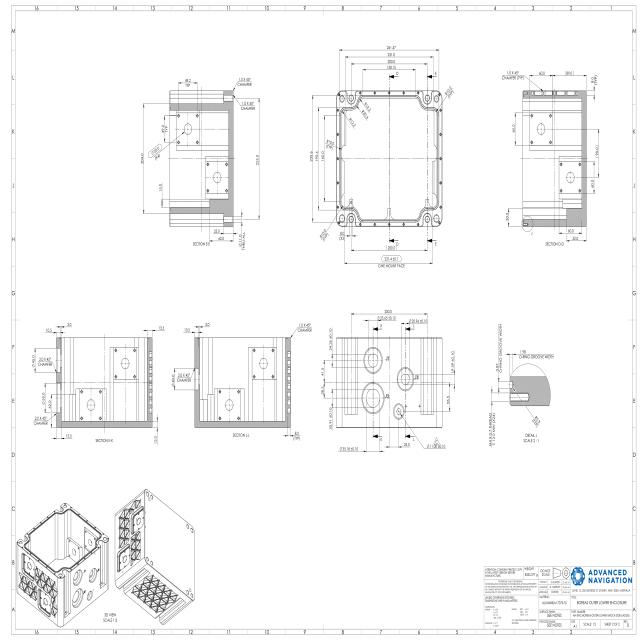dimension: (339, 45, 439, 93), (311, 94, 340, 223), (344, 52, 433, 92), (140, 103, 170, 214), (350, 58, 428, 94), (240, 98, 260, 220), (350, 308, 428, 338), (316, 106, 337, 210), (350, 224, 428, 252), (344, 245, 433, 269), (399, 412, 446, 449), (321, 115, 340, 203), (362, 64, 416, 94), (492, 324, 514, 396), (506, 387, 541, 428), (506, 349, 554, 377), (148, 131, 185, 161), (363, 315, 397, 347), (500, 70, 542, 92), (552, 69, 587, 93), (318, 209, 341, 243), (586, 128, 600, 178), (179, 78, 198, 114), (511, 112, 530, 147), (232, 208, 246, 252), (529, 70, 553, 94), (286, 322, 313, 342), (401, 318, 426, 339), (558, 214, 583, 235), (488, 392, 497, 448), (160, 116, 177, 142), (322, 359, 337, 388), (142, 326, 166, 344), (233, 95, 256, 112), (586, 74, 599, 103), (506, 208, 523, 228), (566, 226, 586, 243), (338, 446, 385, 453), (328, 327, 336, 368), (438, 86, 455, 105), (232, 77, 253, 92), (54, 321, 72, 338), (193, 321, 211, 338), (339, 223, 356, 241), (36, 432, 74, 440), (321, 379, 336, 399), (44, 327, 66, 340), (159, 182, 170, 208), (34, 354, 48, 374), (42, 382, 48, 428), (588, 161, 596, 195), (328, 388, 334, 431), (446, 374, 452, 414), (282, 430, 301, 442), (451, 348, 456, 392), (212, 225, 234, 235), (324, 138, 342, 150), (358, 101, 372, 116), (350, 102, 361, 121), (182, 328, 200, 339), (344, 114, 356, 129), (209, 235, 234, 242), (177, 372, 191, 383), (386, 442, 411, 448), (33, 415, 46, 426), (154, 414, 158, 446), (32, 348, 37, 373), (173, 368, 177, 390), (48, 394, 52, 414)
